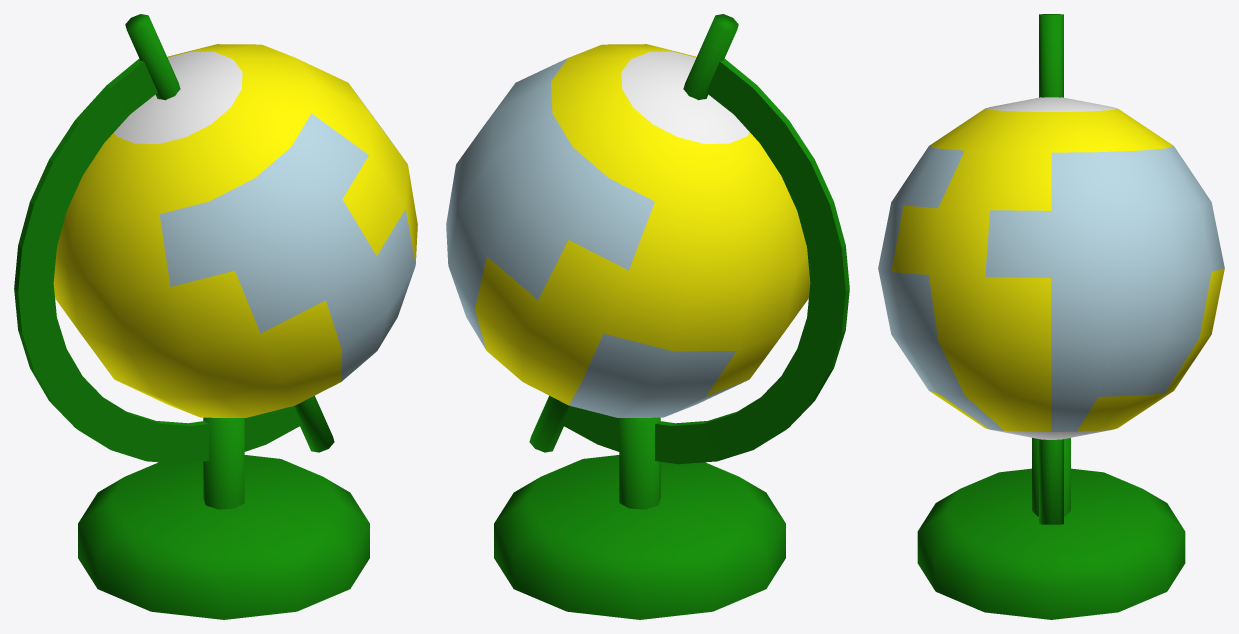
File: Globe.fbx
3 views of the same model, side by side, from view 1: azimuth 30°, elevation 25°; view 2: azimuth 150°, elevation 25°; view 3: azimuth 270°, elevation 25° (orthographic). The views are drawn at different scales.
Visible parts, largest first — view 1: Globe; view 2: Globe; view 3: Globe.
Boxes of the visible parts, x1,y1,x2,y2 form: Globe: (14, 14, 417, 619); Globe: (446, 14, 849, 619); Globe: (878, 14, 1224, 619).
Bounding box in the file's own units: 0.3963 × 0.561 × 0.3425.
